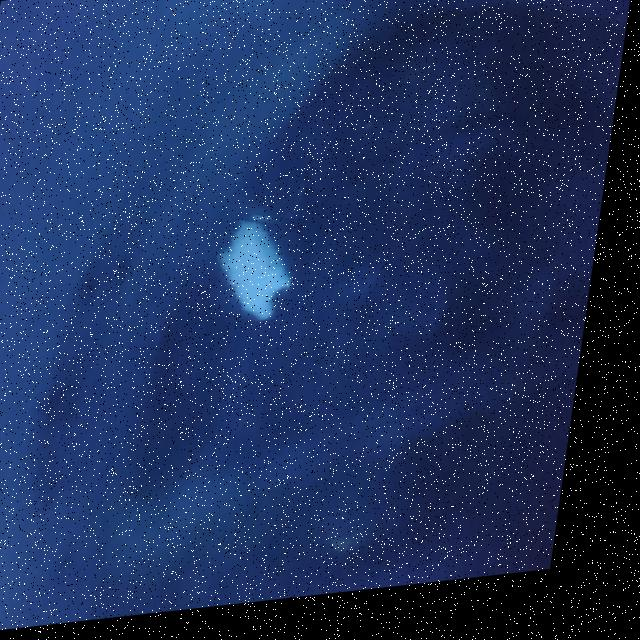thermocoal: (212, 215, 332, 332)
